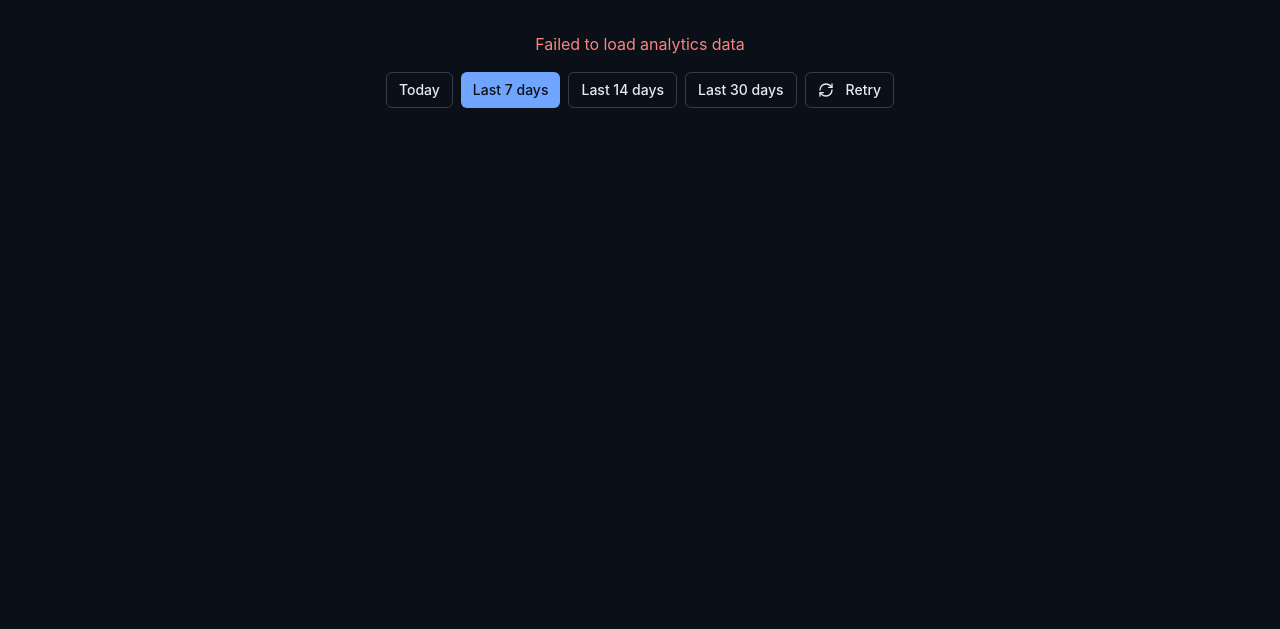
Test: the analytics page after a failed fetch › a retry on the error screen fetches again
The image size is (1280, 629).
Expected: the text "Failed to load analytics data" is shown, [535,34,745,54]
Step 1. Click the button "Retry" → {"x": 849, "y": 90}, box [804,72,894,108]
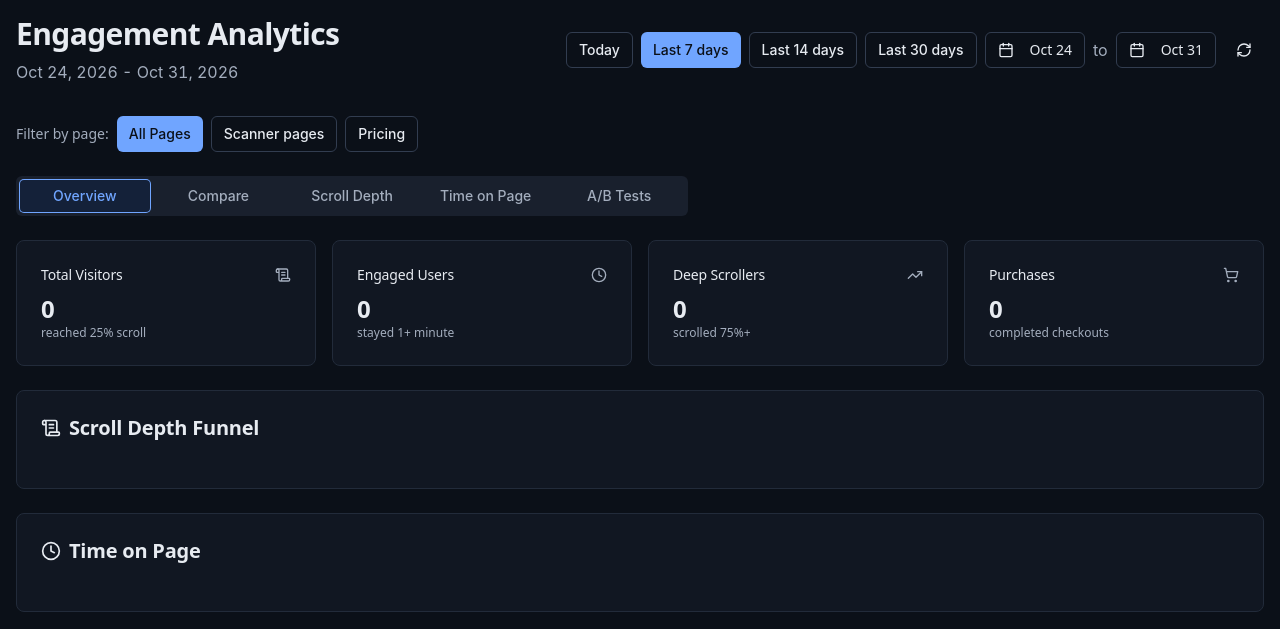
Expected: the heading "Engagement Analytics" is shown, [16,16,339,52]
